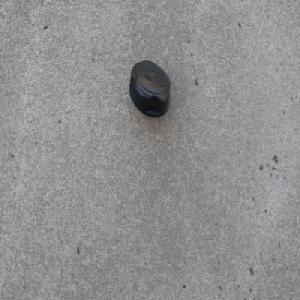FuelCap: (128, 58, 171, 121)
